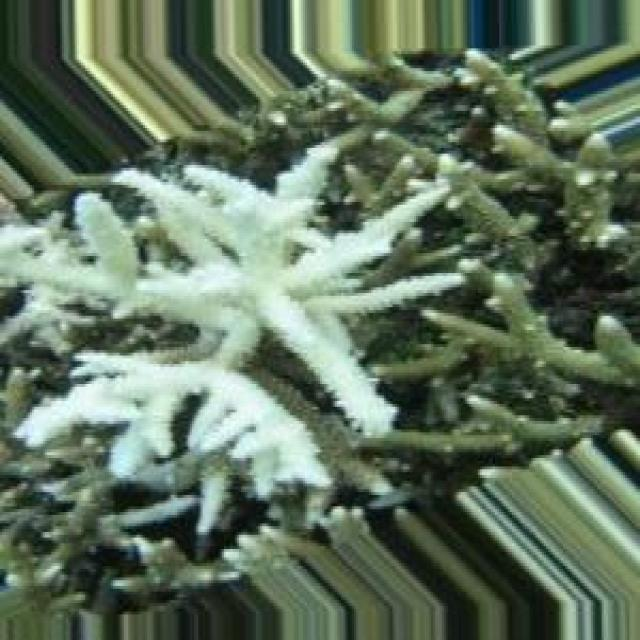Bleached: (1, 126, 465, 541)
